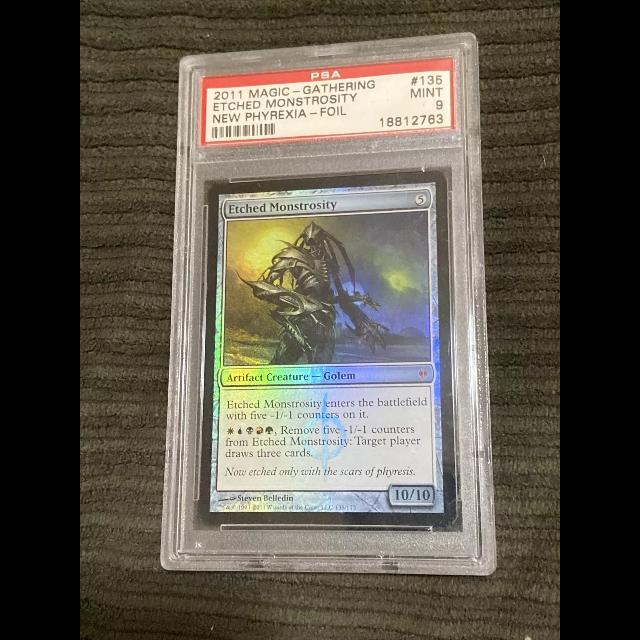card: (198, 169, 457, 527)
psa_label_old: (199, 58, 455, 148)
psa_slab: (159, 30, 498, 576)
